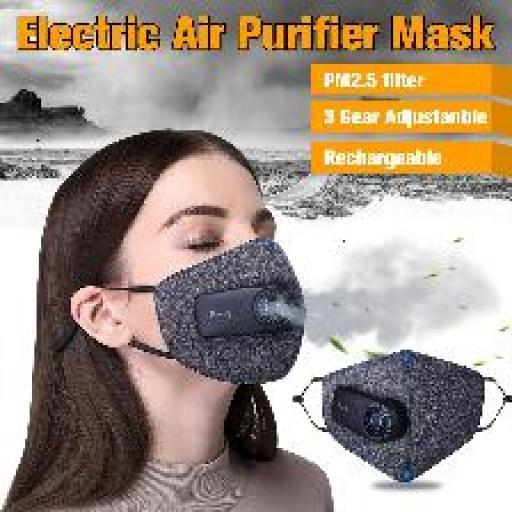mask: (148, 235, 315, 390)
